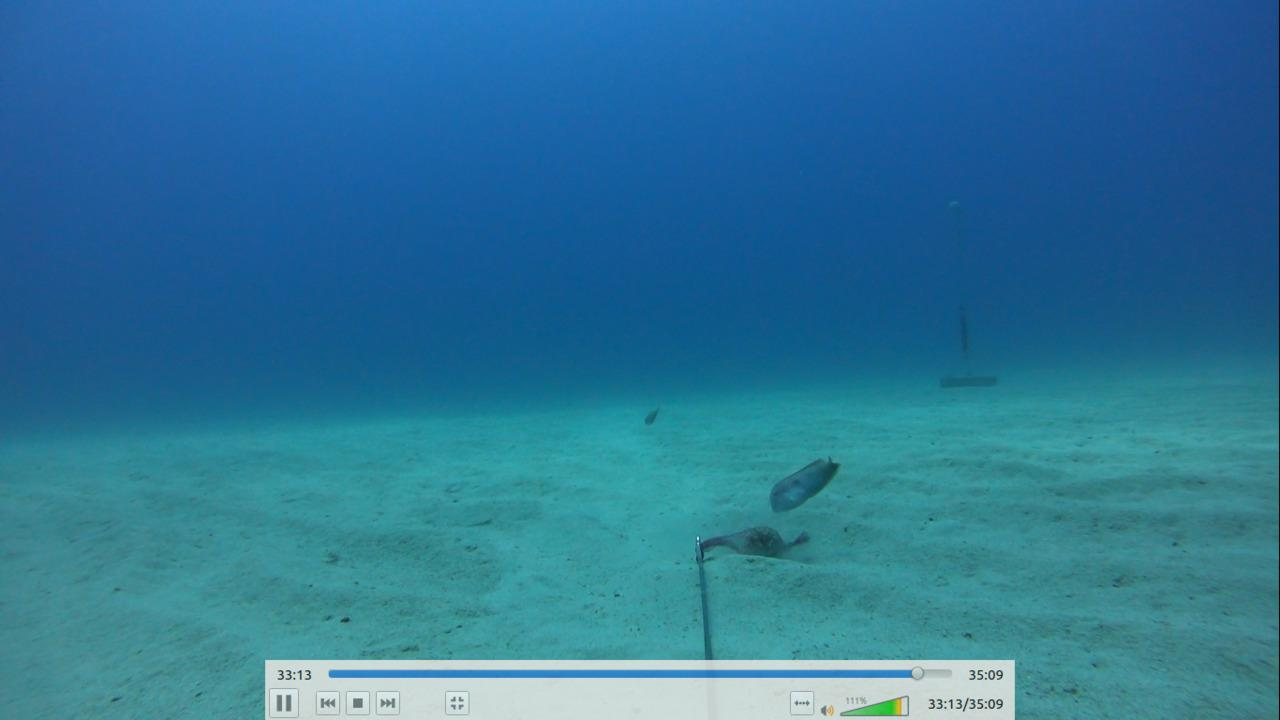raor: (762, 447, 843, 520), (638, 399, 668, 427)
